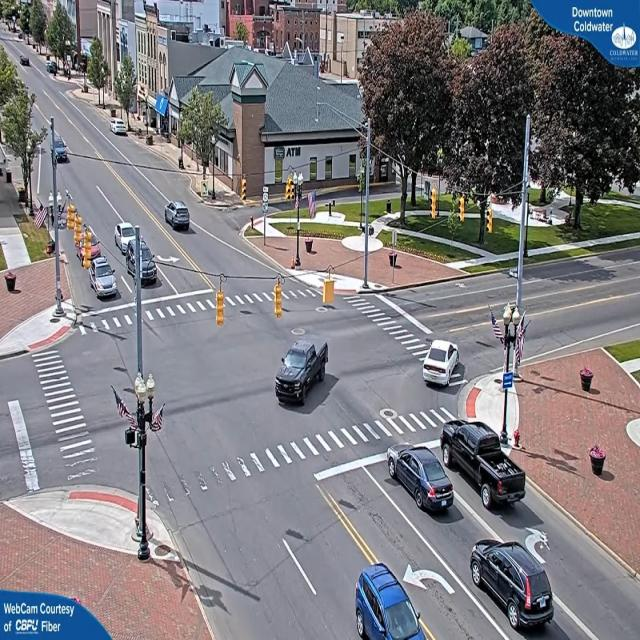car: (441, 418, 529, 512), (469, 538, 555, 633), (355, 564, 426, 640), (386, 446, 456, 516), (276, 338, 330, 408), (423, 339, 463, 388), (90, 258, 119, 300), (163, 204, 190, 232), (112, 120, 128, 136)
